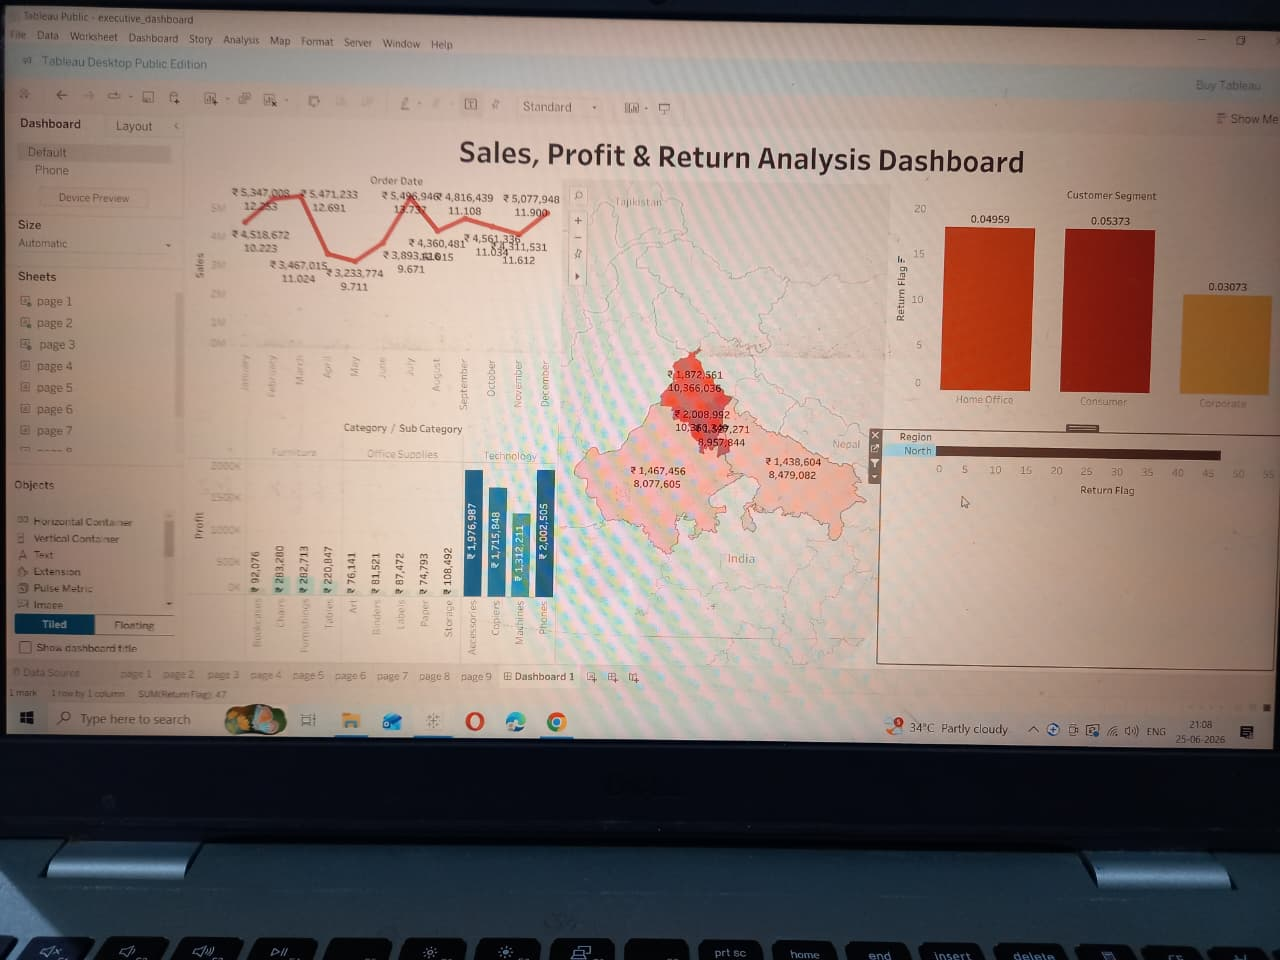

The page's visual inventory and layout, read from the dashboard file:
{"tool":"tableau","page":{"name":"Dashboard 1","canvas":[1000,1000],"units":"permille","ordinal":0},"visuals":[{"type":"title","box":[4.9,9.9,990.2,81.4]},{"type":"worksheet","title":"page 1","mark":"Automatic","rows":["sales"],"cols":["order_date"],"box":[3.1,96.2,332.9,452.5]},{"type":"worksheet","title":"page 8","mark":"Automatic","rows":["return_flag"],"cols":["customer_segment"],"box":[635.9,98.6,361,425.4]},{"type":"worksheet","title":" page 3","mark":"Automatic","rows":["profit"],"cols":["category","sub_category"],"box":[3.1,549.9,333.5,450.1]},{"type":"worksheet","title":"page 9","mark":"Automatic","rows":["region"],"cols":["return_flag"],"box":[633.5,551.2,364.1,439]}]}

Visuals, with their boxes on the dashboard's canvas, which has no fixed pixel size, in thousandths of its width and height (x1, y1, x2, y2). These are canvas units, not pixel positions in the 1280x960 screenshot, which may show the page scaled, cropped or inside an application window:
title: box=[5, 10, 995, 91]
"page 1" worksheet: box=[3, 96, 336, 549]
"page 8" worksheet: box=[636, 99, 997, 524]
" page 3" worksheet: box=[3, 550, 337, 1000]
"page 9" worksheet: box=[634, 551, 998, 990]
